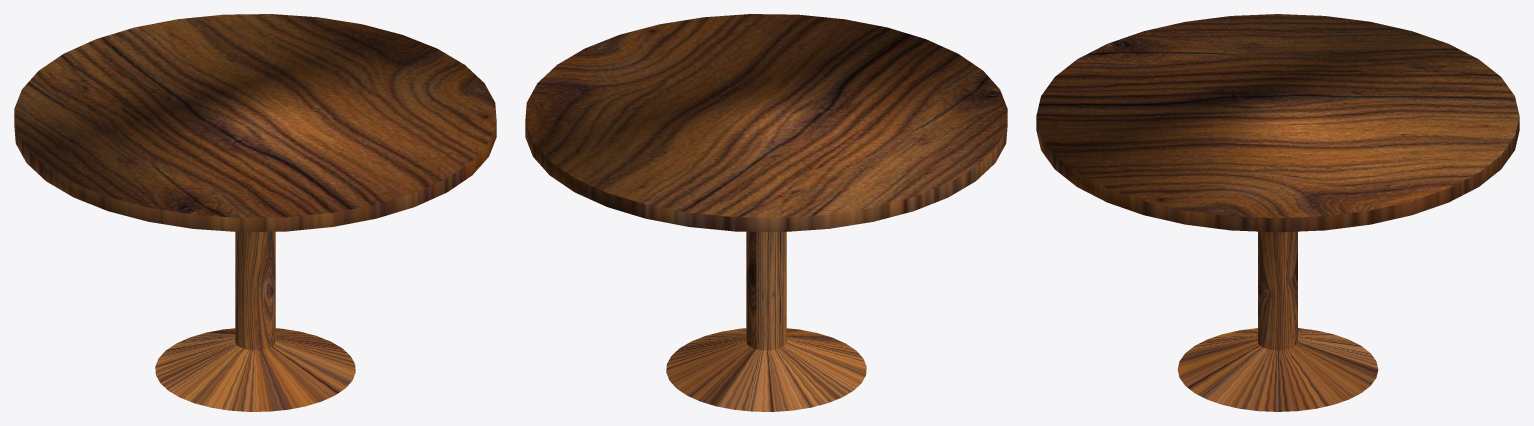
The model's file is Mesa.glb.
3 renders of one model, left to right at view 1: azimuth 30°, elevation 25°; view 2: azimuth 150°, elevation 25°; view 3: azimuth 270°, elevation 25°, orthographic.
Parts seen in each view (by area): view 1: Cilindro; view 2: Cilindro; view 3: Cilindro.
Part boxes in pixels (box(x1,y1,x2,y2)): Cilindro: box(14, 14, 496, 411); Cilindro: box(525, 14, 1007, 411); Cilindro: box(1036, 14, 1519, 411).
Size of the model in its own units: 4.81 by 2.78 by 4.81.
1 material, 1 textured.
